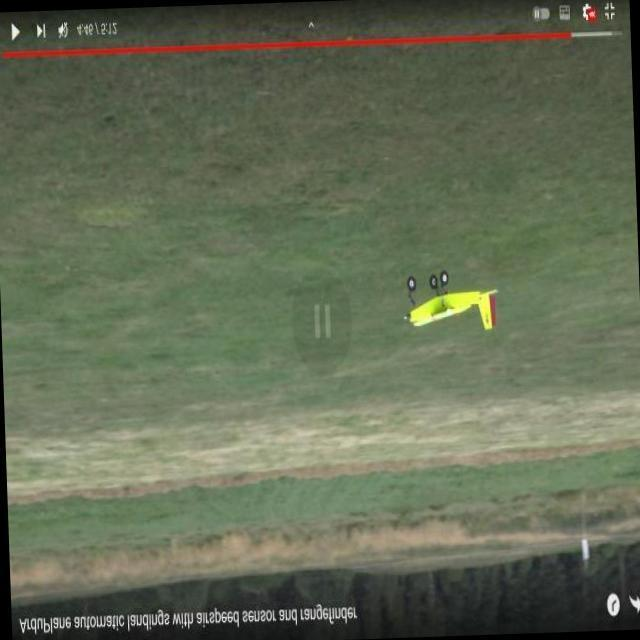iha: (428, 276, 433, 316)
